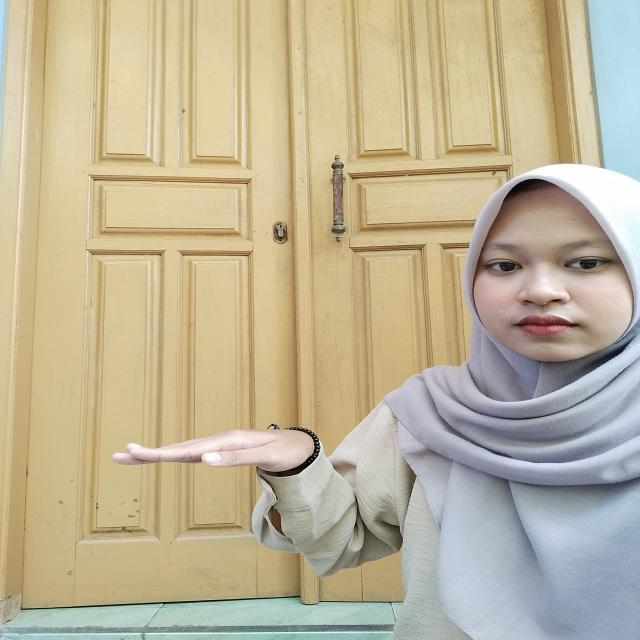adik: (92, 394, 328, 508)
